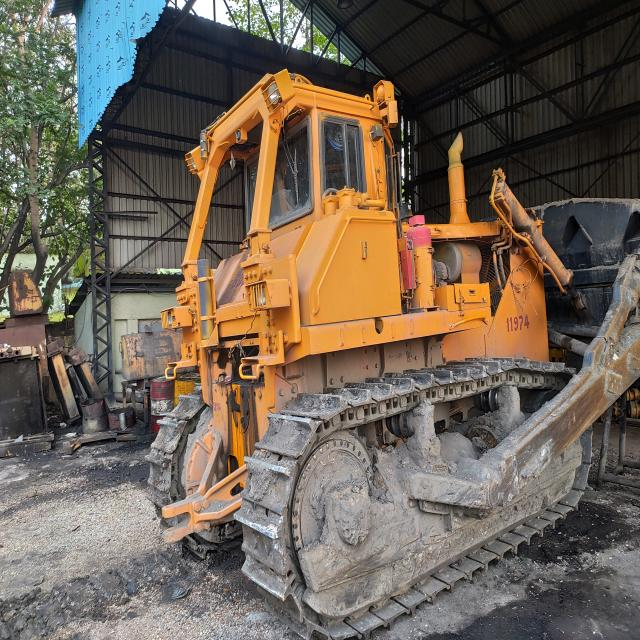buldozerpayloadergrader: (150, 70, 640, 633)
